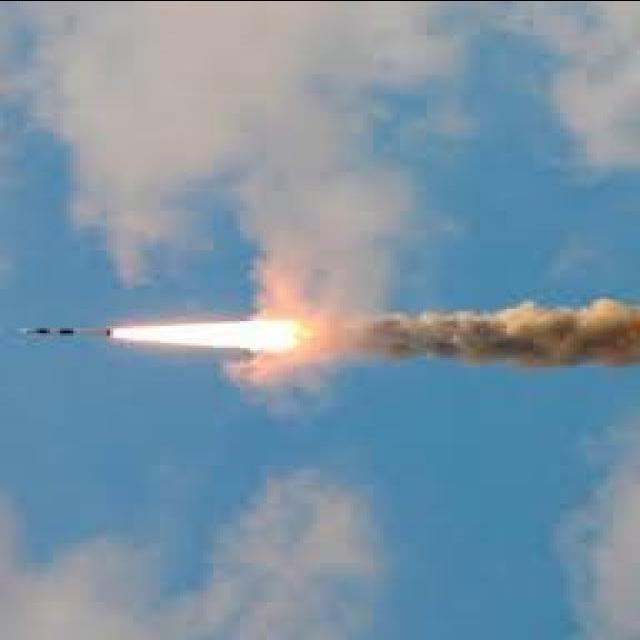missile: (14, 317, 119, 363)
